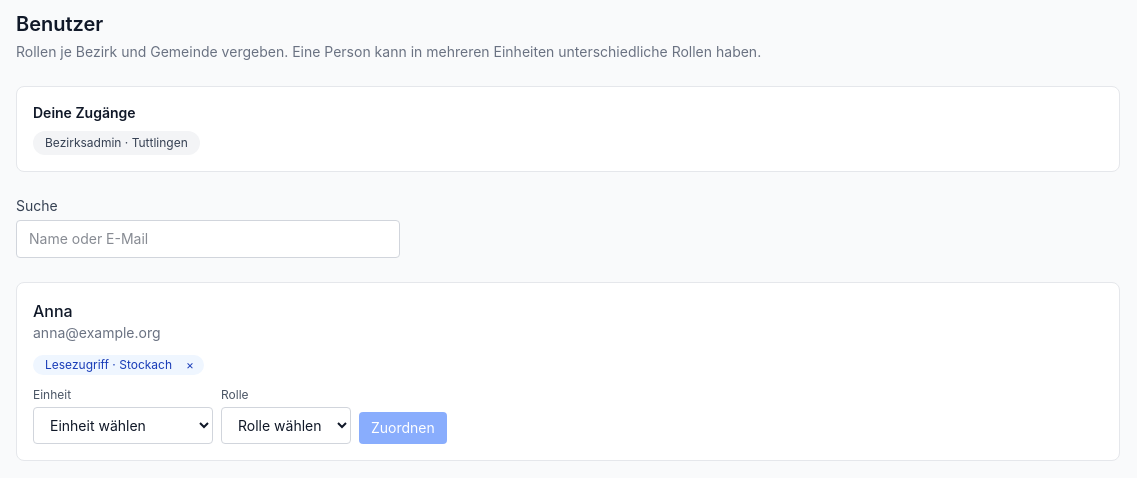
Test: UsersAdminView › assigns a role in another unit and keeps the existing membership
Select "Bezirk Tuttlingen" in the dropdown named "Einheit für anna@example.org". click: (123, 426)
box: [33, 407, 213, 444]
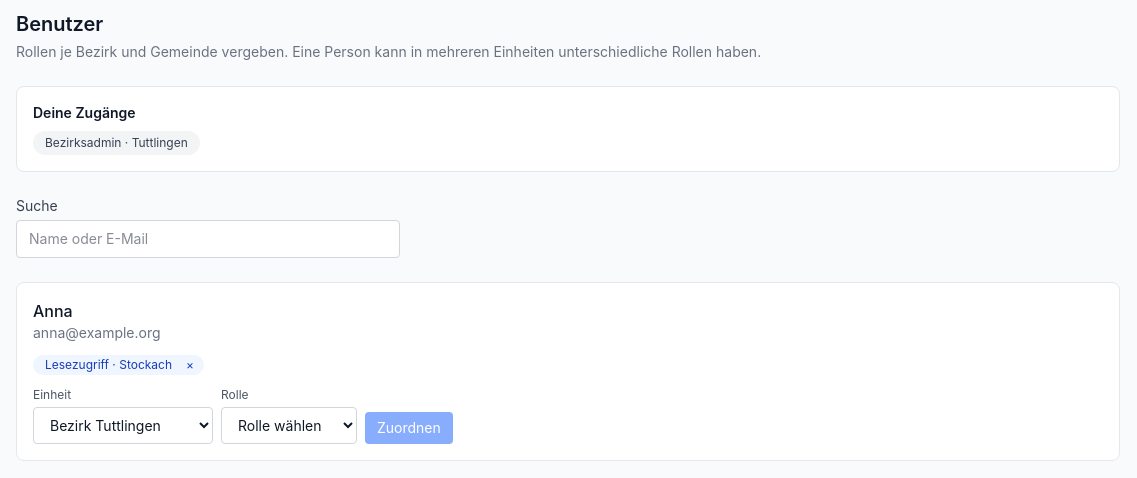
Select "Planer" in the dropdown named "Rolle für anna@example.org". click: (289, 426)
box: [221, 407, 357, 444]
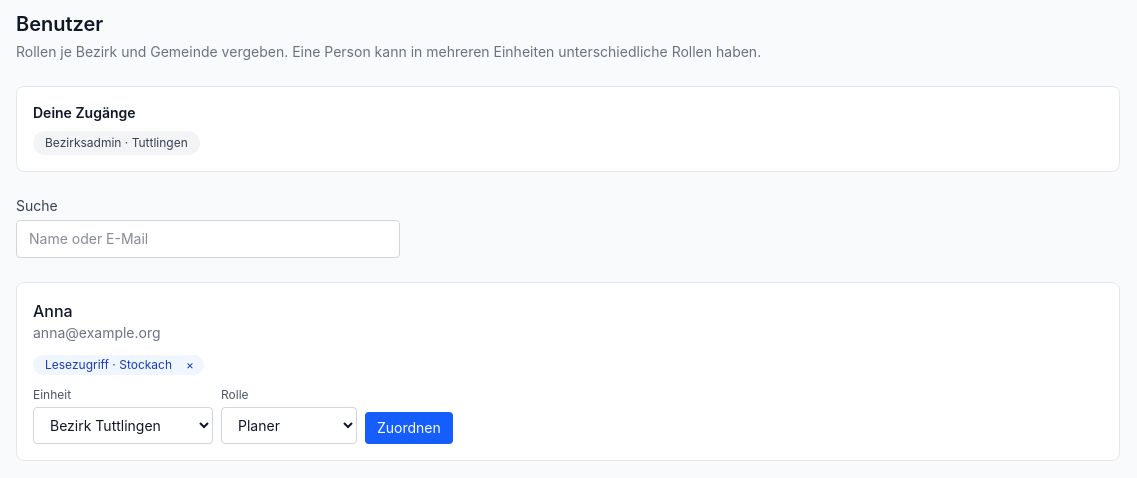
Submit the form, box [33, 387, 453, 444]
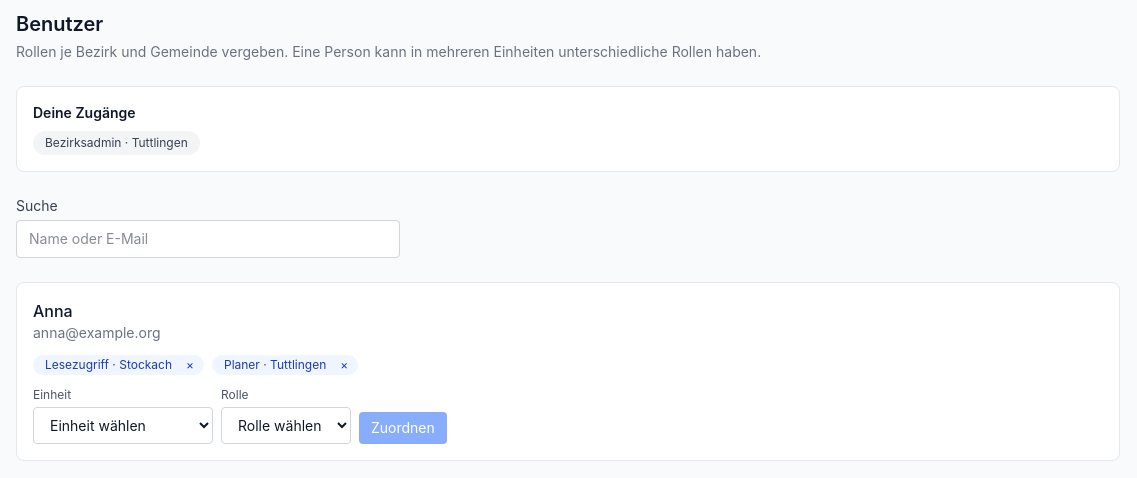
Expected: the text "Lesezugriff · Stockach" is shown, [45, 357, 172, 372]
Expected: the text "Planer · Tuttlingen" is shown, [224, 357, 326, 372]
